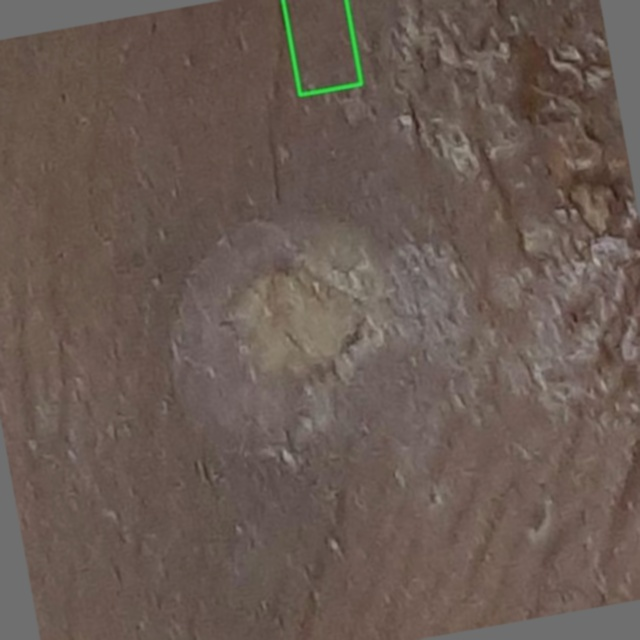Eczema: (283, 0, 361, 95)
